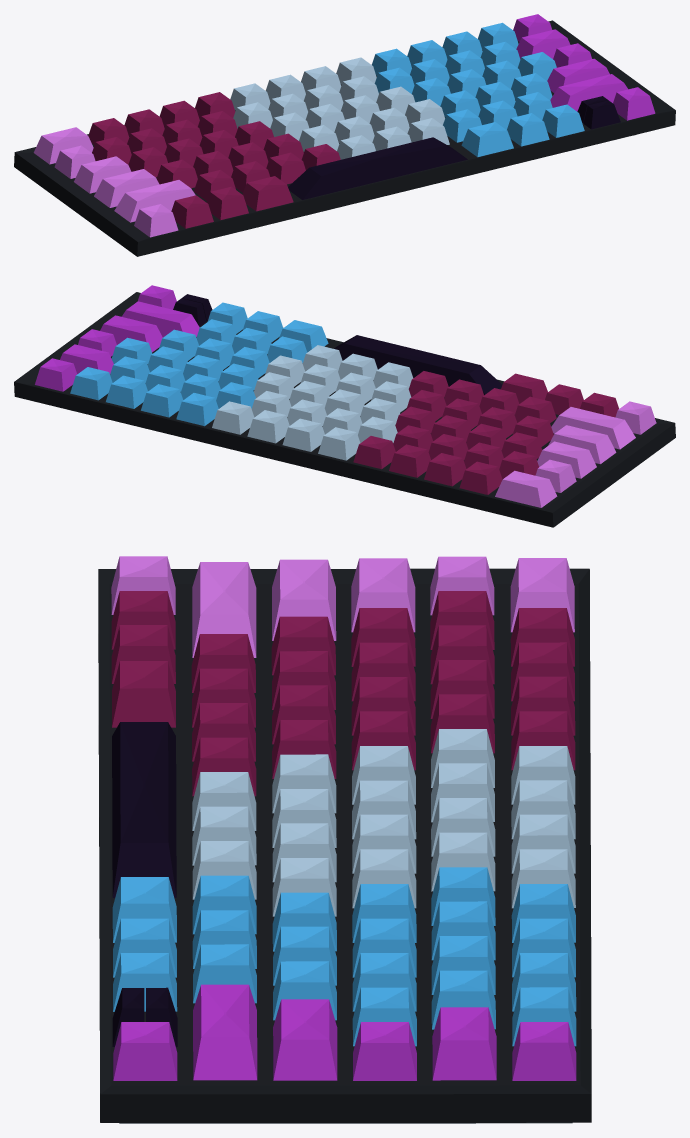
Rendered from keyboard.gltf.
3 views of the same model, one above another, from view 1: azimuth 30°, elevation 25°; view 2: azimuth 150°, elevation 25°; view 3: azimuth 270°, elevation 25° (orthographic). The views are drawn at different scales.
Visible parts, largest first — view 1: keyboard; view 2: keyboard; view 3: keyboard.
Part boxes in pixels (box(x1,y1,x2,y2)): keyboard: box(14, 14, 675, 256); keyboard: box(14, 285, 675, 527); keyboard: box(98, 556, 591, 1123).
Size of the model in its own units: 3.31 by 0.2234 by 1.31.
Materials: 1 (1 with a texture image).
